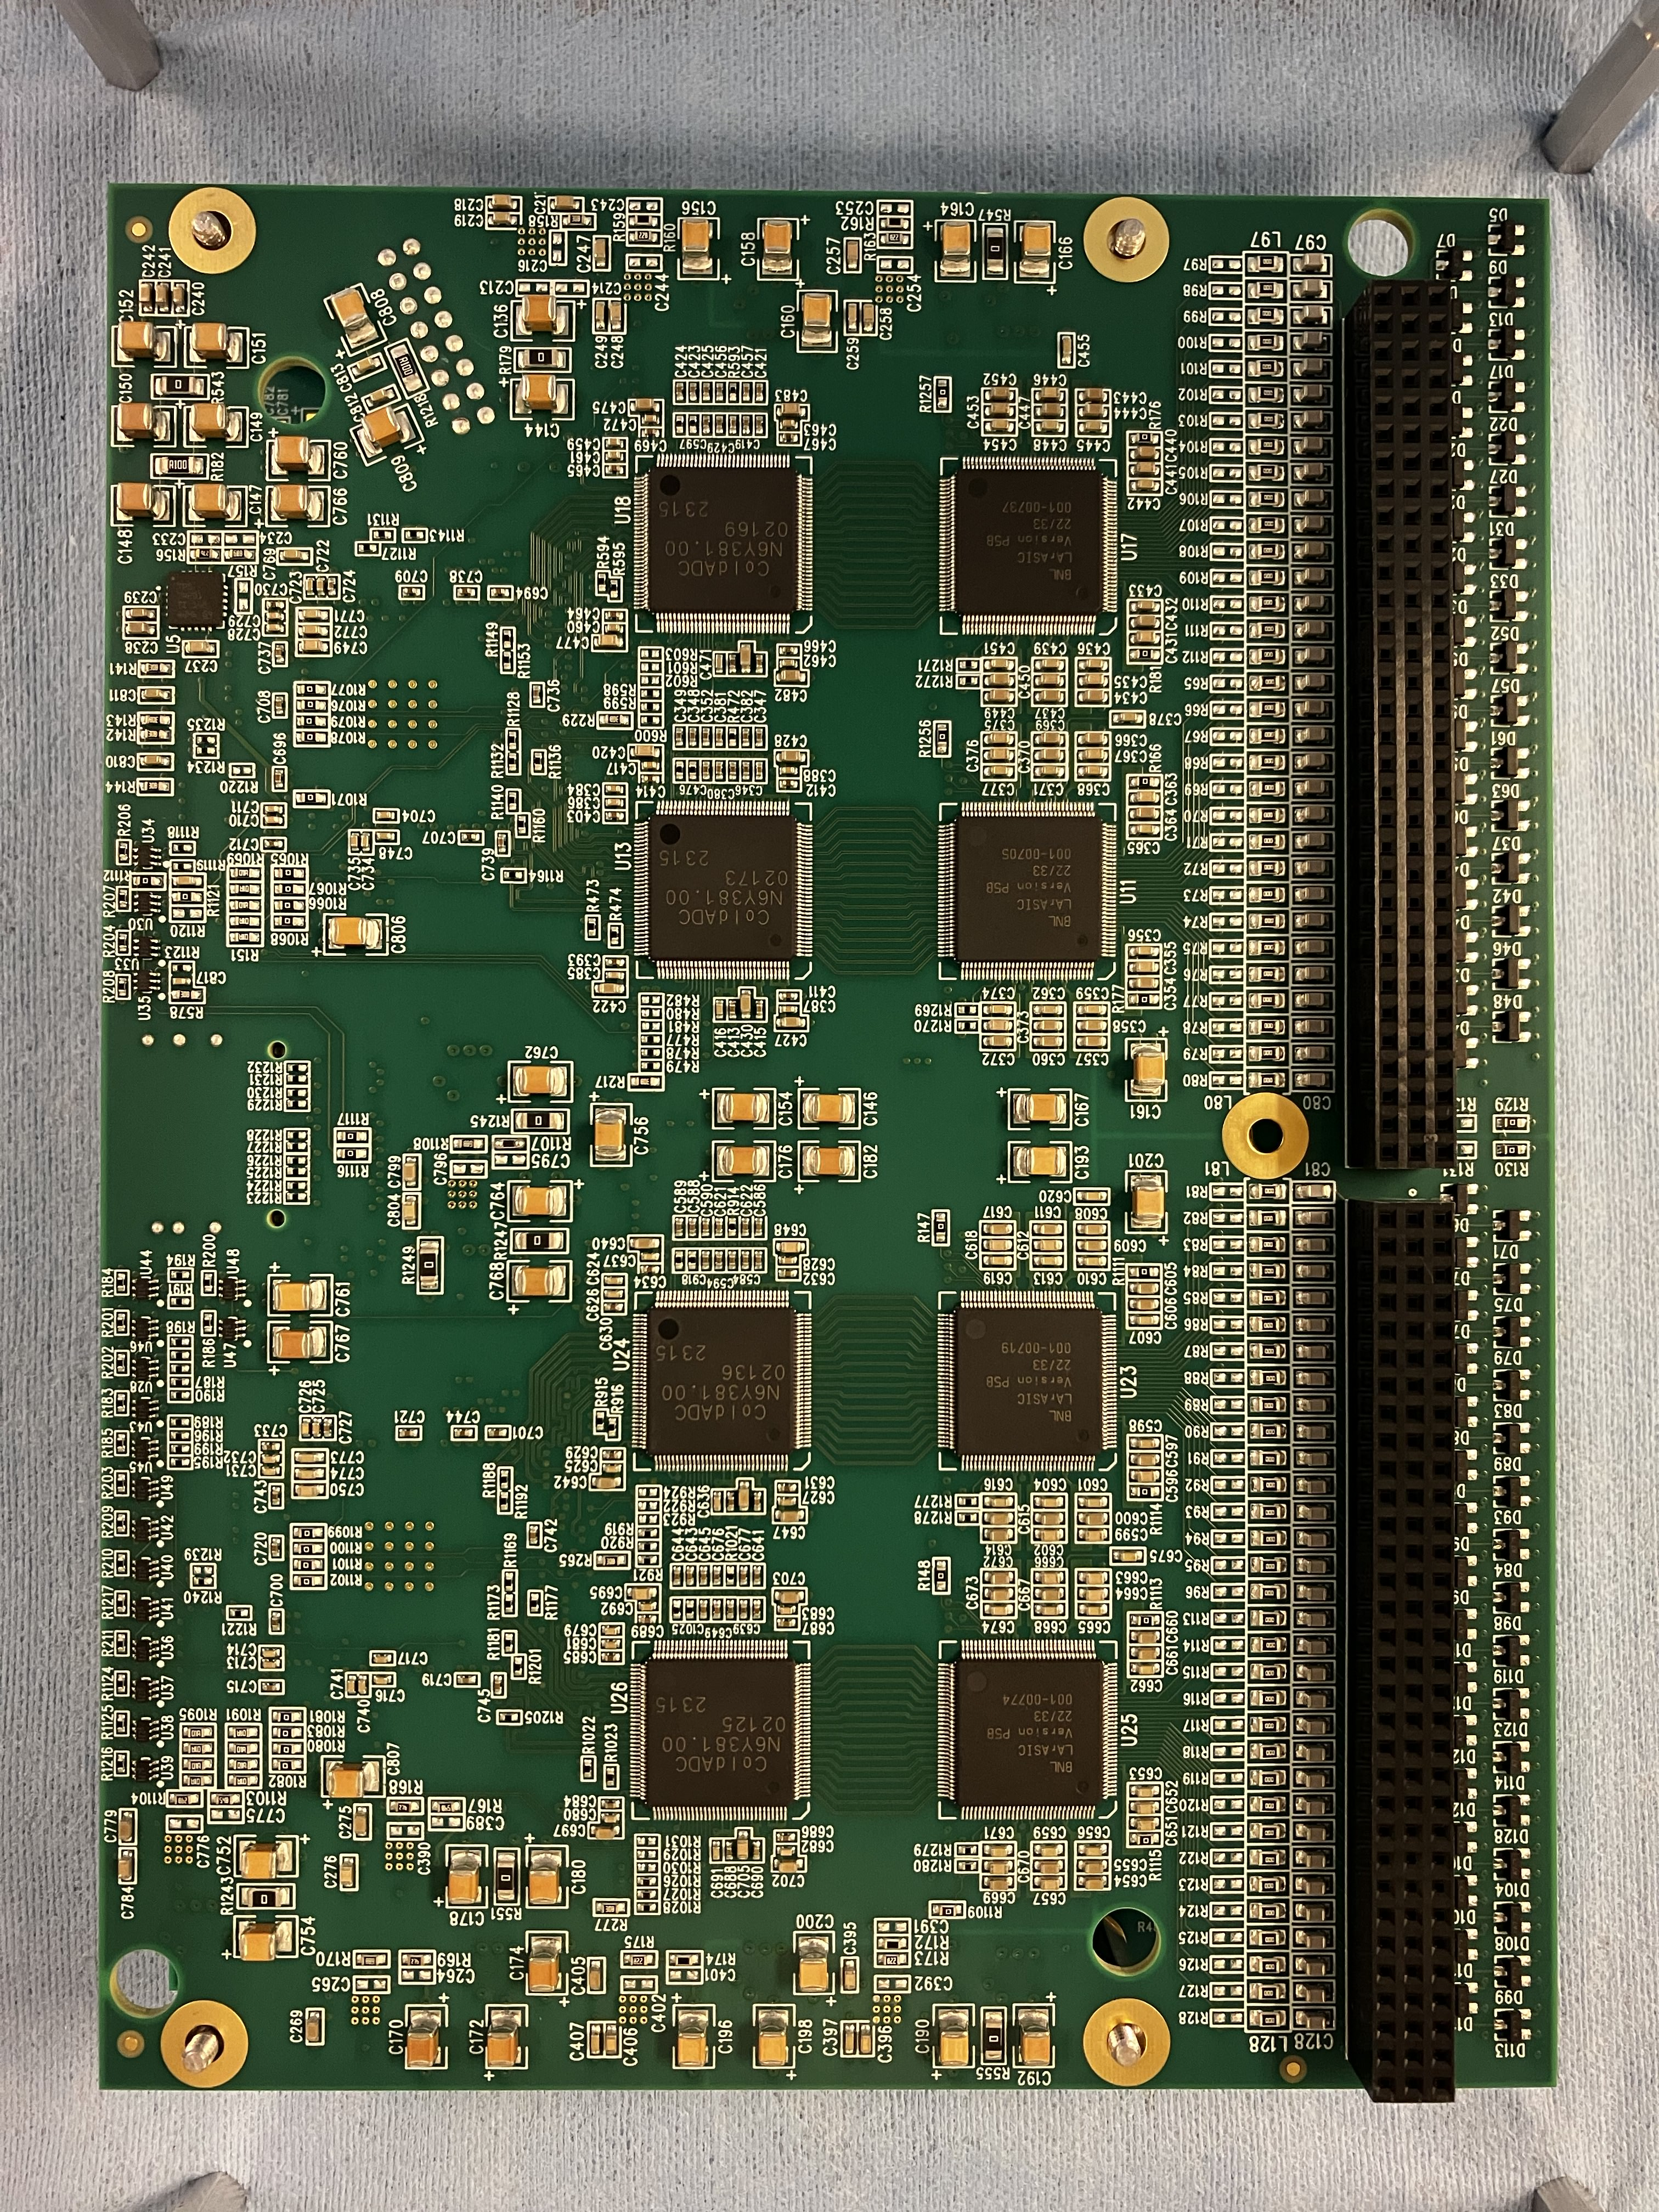chip: (648, 465, 800, 617), (953, 467, 1105, 618), (648, 812, 798, 963), (953, 813, 1103, 965), (645, 1306, 795, 1458), (953, 1306, 1103, 1458), (647, 1656, 796, 1808), (953, 1656, 1103, 1808)
